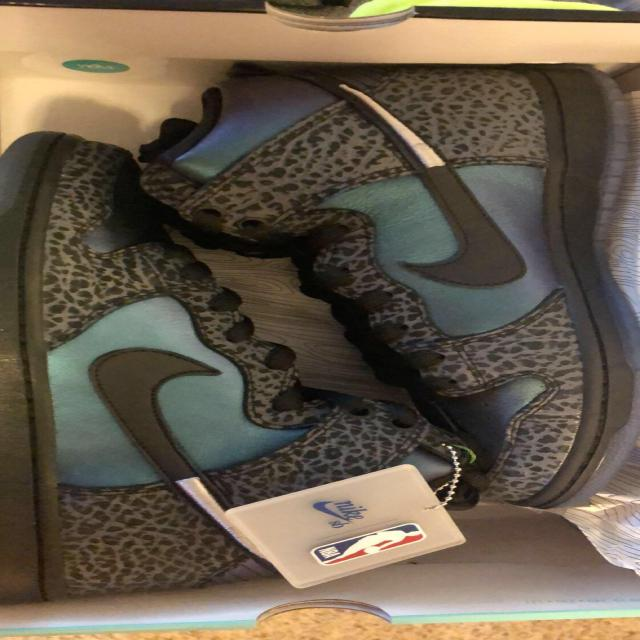shoes: (109, 52, 640, 511), (0, 125, 500, 604)
